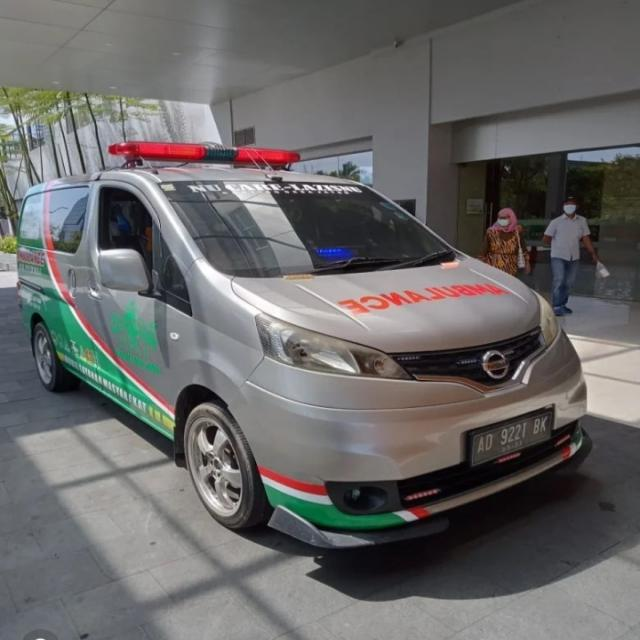emergency-vehicle: (11, 168, 589, 560)
